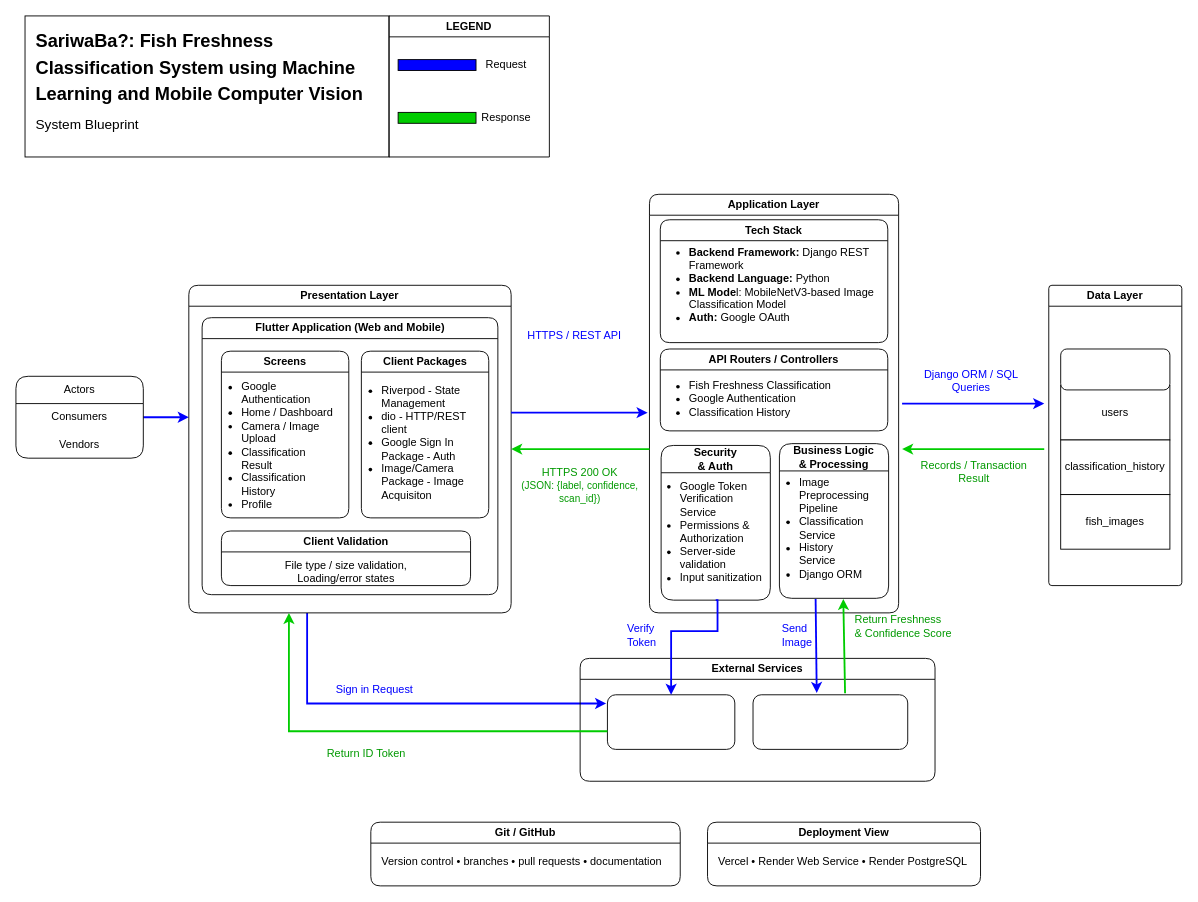
Image size: 1198x902. Some labels were removed from this diagram. The shapes that lost their labels are listed below. From the top down, each one's centre as x and y in pixels, then its label:
At point 1115,369: "PostgreSQL Database".
At point 671,721: "Google OAuth".
At point 830,721: "ML Classification".
